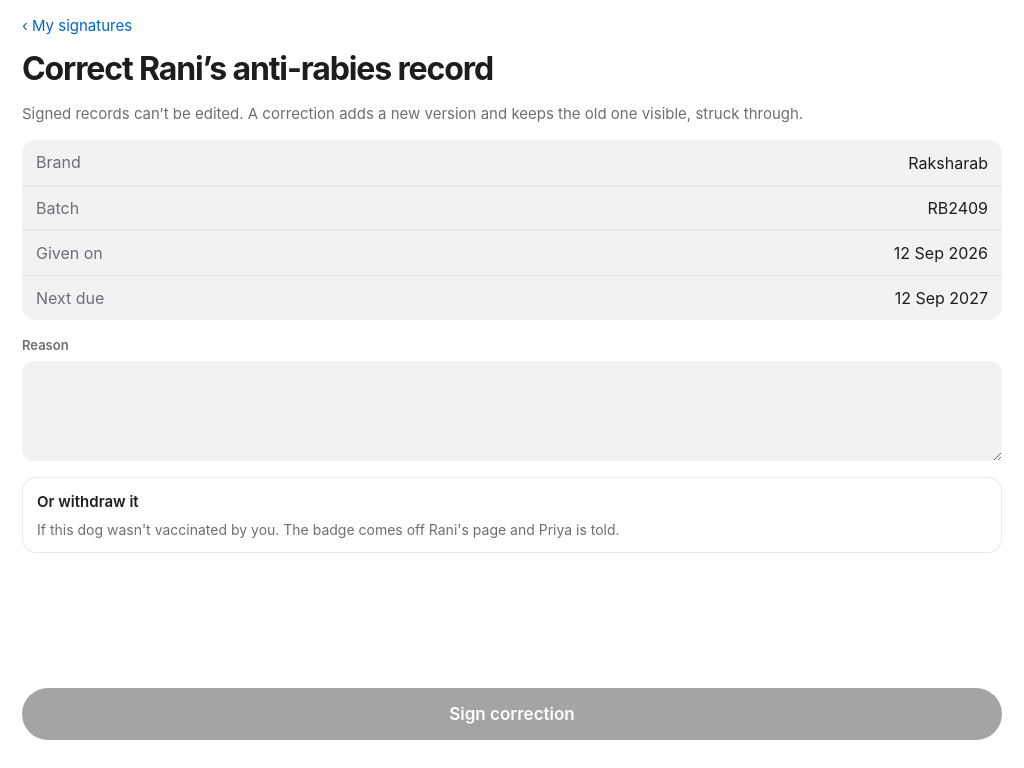
Test case: V5 correct a signed record › shows old and new, and signs a correction that supersedes
Expected: the heading "Correct Rani’s anti-rabies record" is shown, [22,49,493,88]
Expected: the text "Signed records can’t be edited. A correction adds a new version and keeps the old one visible, struck through." is shown, [22,104,803,123]
Replace the text in the field labelled "Batch" with "RB2419" at coordinates (957, 208), box [926,186,988,230]
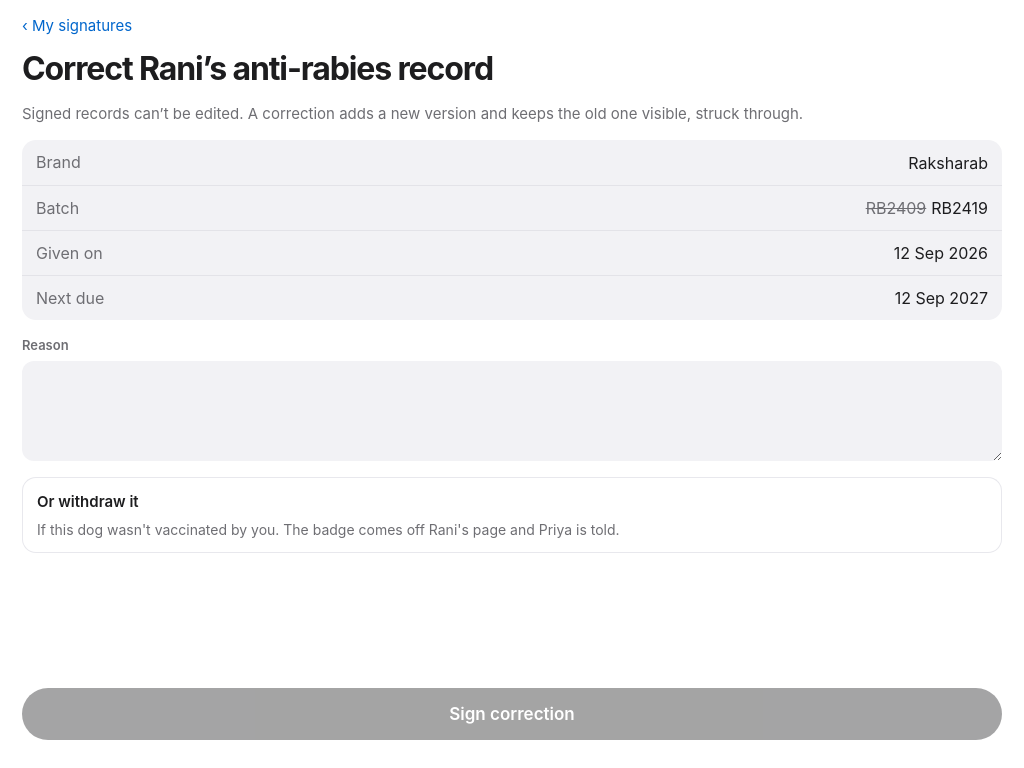
Type "Typo in batch number. Checked the vial box." into the text box labelled "Reason" at coordinates (512, 412), box [22,362,1002,462]
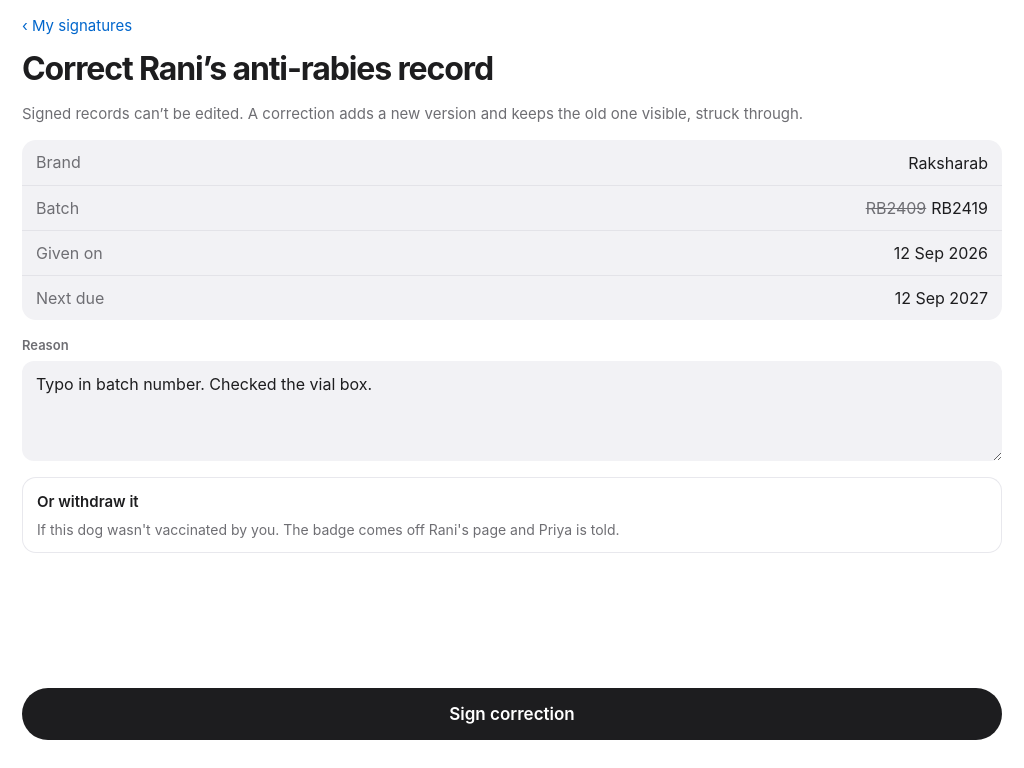
Expected: the text "RB2409" is shown, [866,197,926,220]
Click the button "Sign correction" at coordinates (512, 714), box [22,688,1002,740]
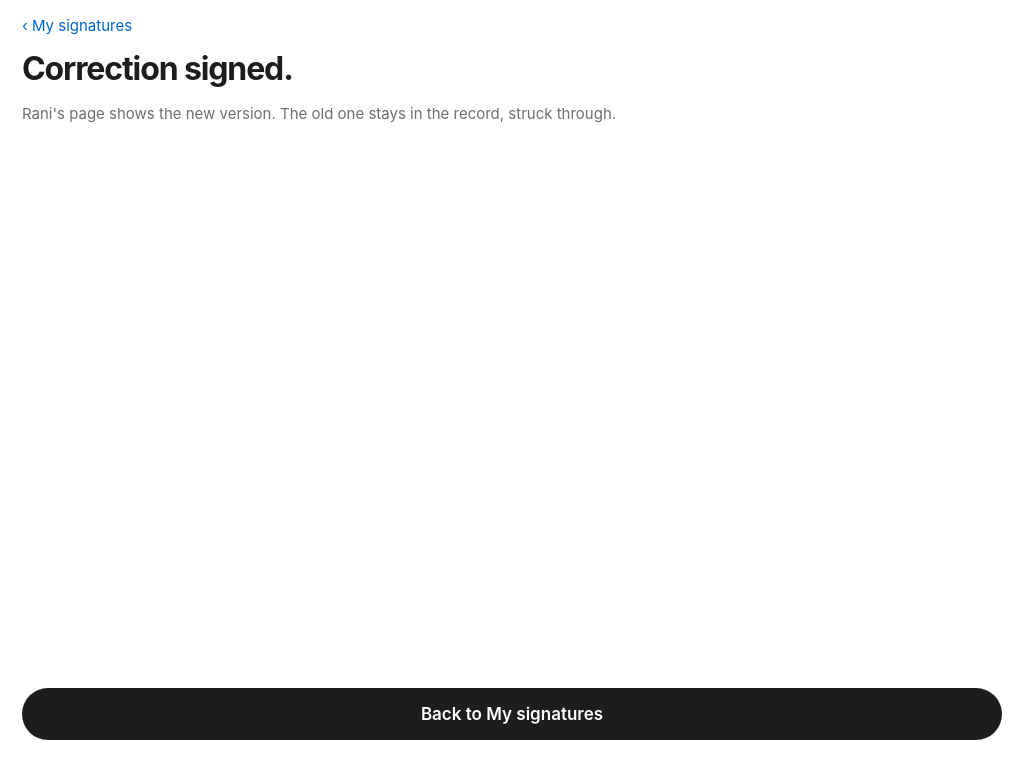
Expected: the heading "Correction signed." is shown, [22,49,293,88]
